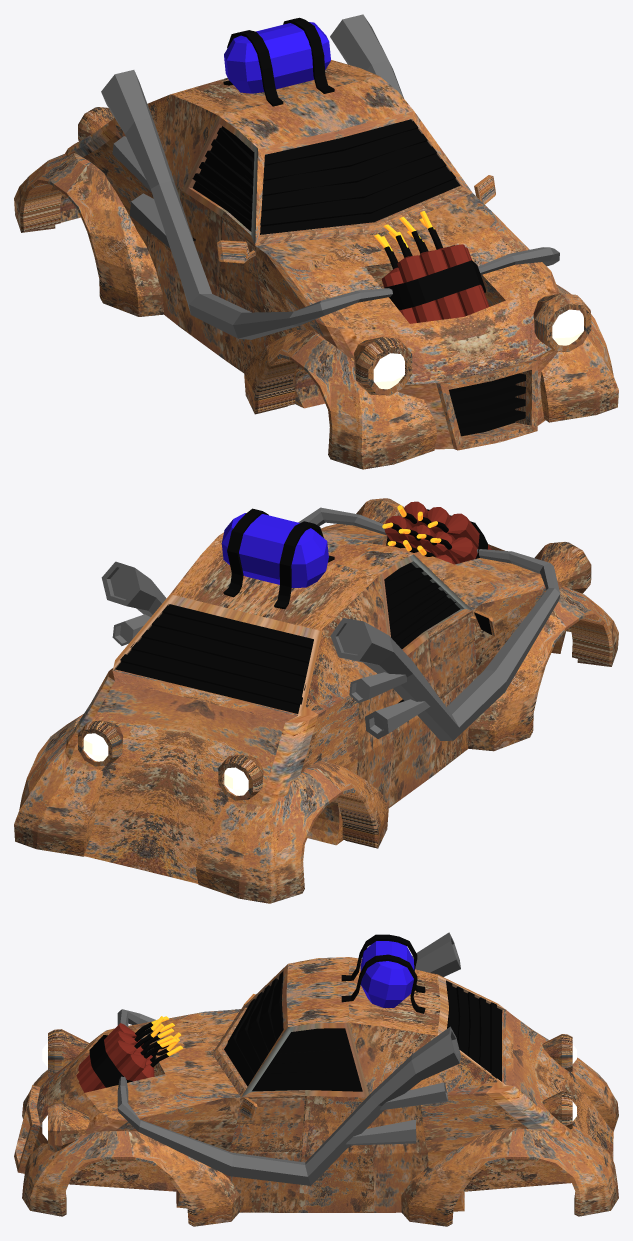
Rendered from Explo.fbx.
3 views of the same model, one above another, from view 1: azimuth 30°, elevation 25°; view 2: azimuth 150°, elevation 25°; view 3: azimuth 270°, elevation 25° (orthographic). The views are drawn at different scales.
Parts seen in each view (by area): view 1: Cube; view 2: Cube; view 3: Cube.
Boxes of the visible parts, x1,y1,x2,y2 form: Cube: (14,14,618,469); Cube: (14,498,618,903); Cube: (14,932,618,1226).
Size of the model in its own units: 407 by 372 by 908.
